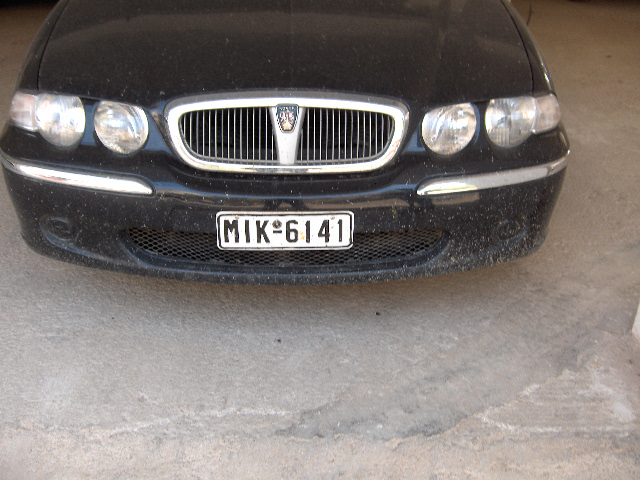licenseplate: (214, 209, 354, 250)
